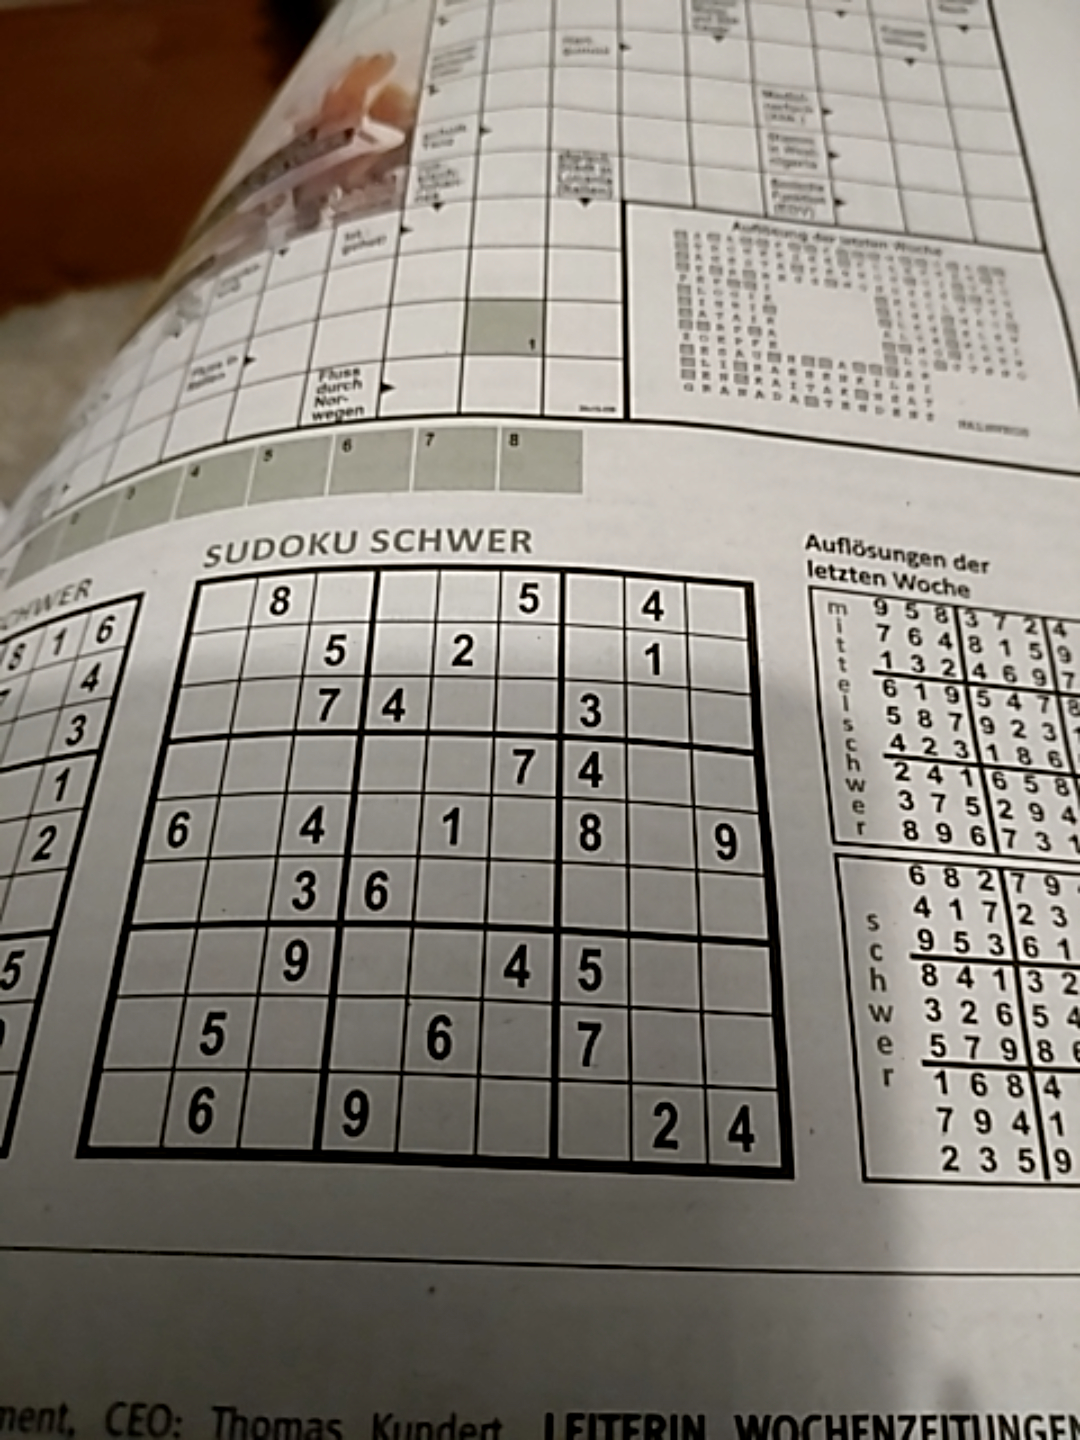sudoku: (64, 562, 793, 1194)
